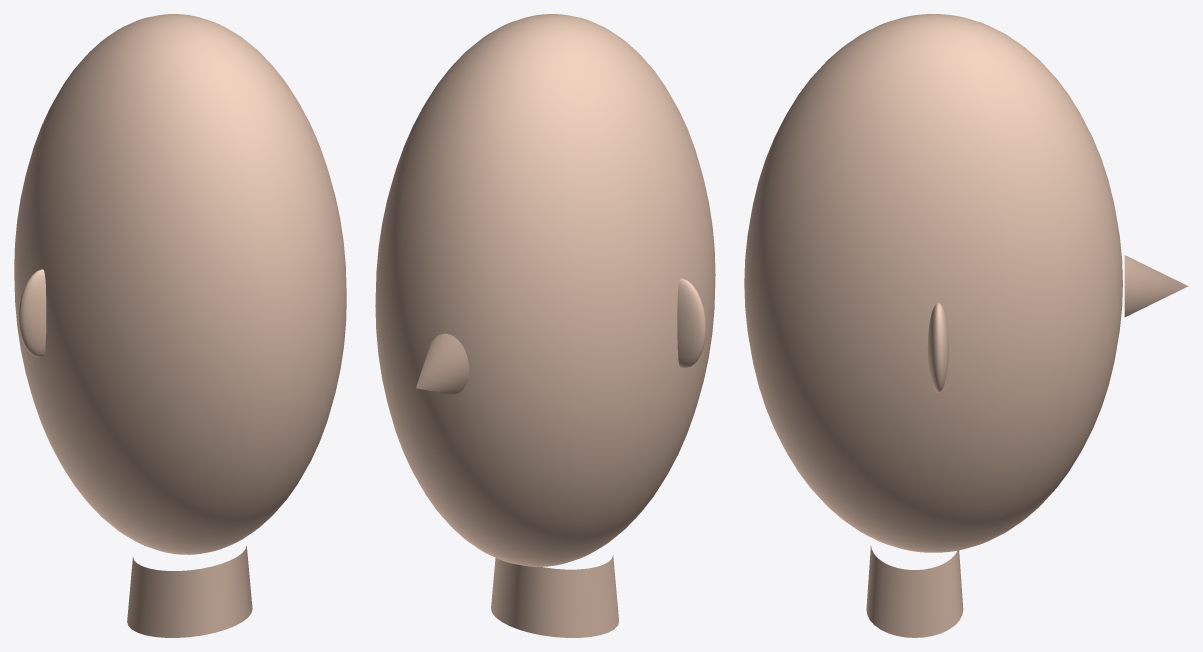
The model's file is head.glb.
3 renders of one model, left to right at view 1: azimuth 30°, elevation 25°; view 2: azimuth 150°, elevation 25°; view 3: azimuth 270°, elevation 25°, orthographic. The views are drawn at different scales.
Visible parts, largest first — view 1: procedural_head_placeholder; view 2: procedural_head_placeholder; view 3: procedural_head_placeholder.
Boxes of the visible parts, <box> form: procedural_head_placeholder: <box>14,14,346,637</box>; procedural_head_placeholder: <box>375,14,715,637</box>; procedural_head_placeholder: <box>744,14,1188,637</box>.
Size of the model in its own units: 11.77 by 20.7 by 14.2.
